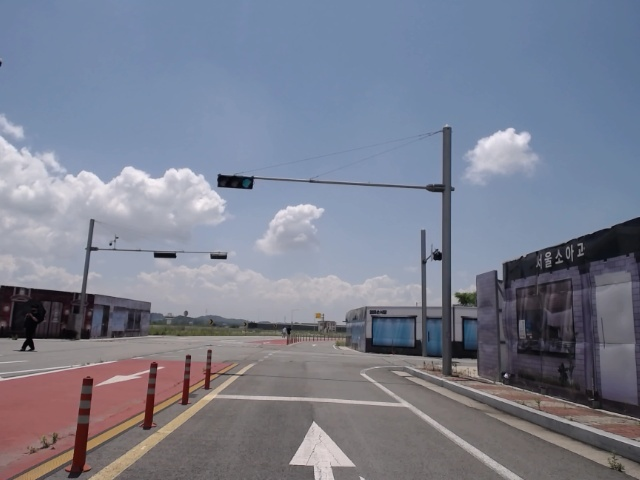green_3: (218, 175, 252, 189)
